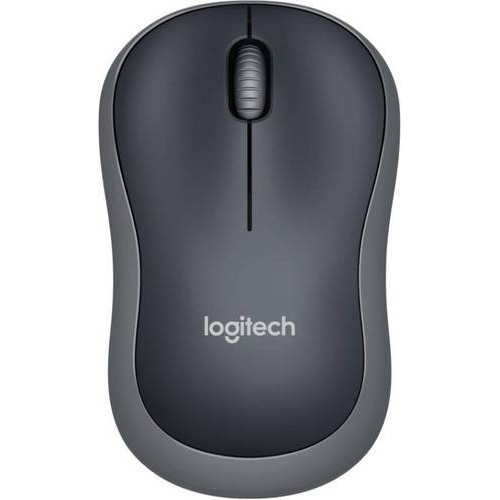logitech-mouse-m185: (96, 1, 429, 500)
